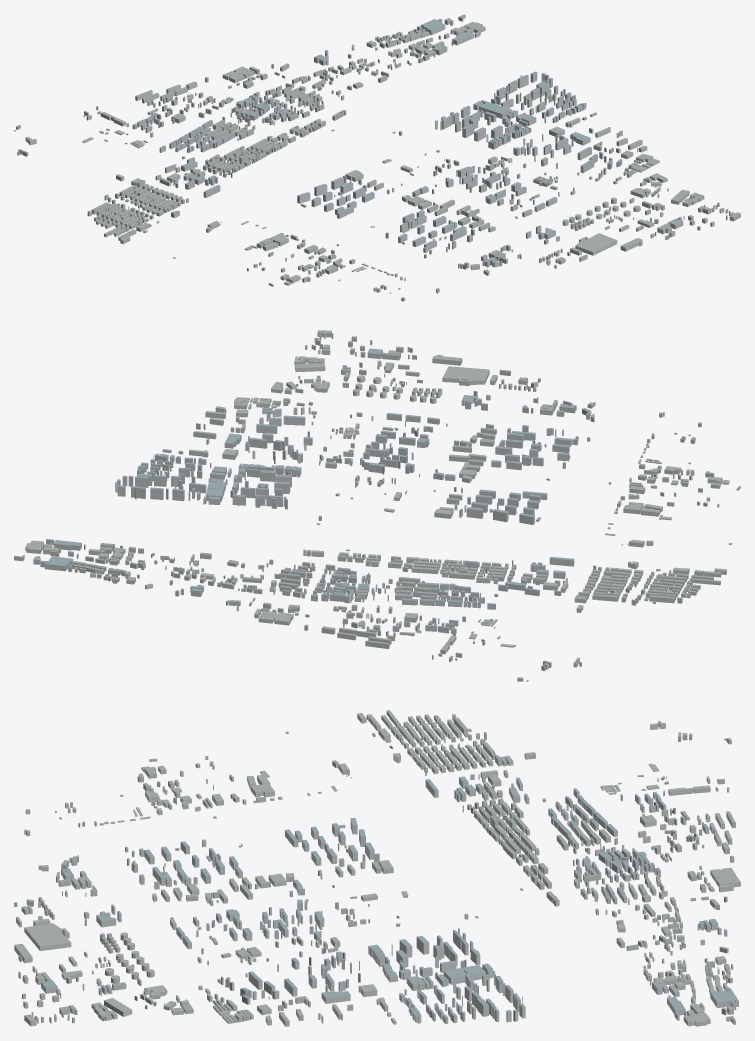
File: far.glb
3 renders of one model, top to bottom at view 1: azimuth 30°, elevation 25°; view 2: azimuth 150°, elevation 25°; view 3: azimuth 270°, elevation 25°, orthographic. The views are drawn at different scales.
Size of the model in its own units: 2159 by 38.3 by 2119.
